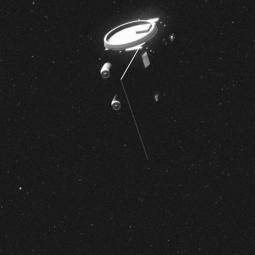proba_3_csc: (101, 0, 192, 177)
